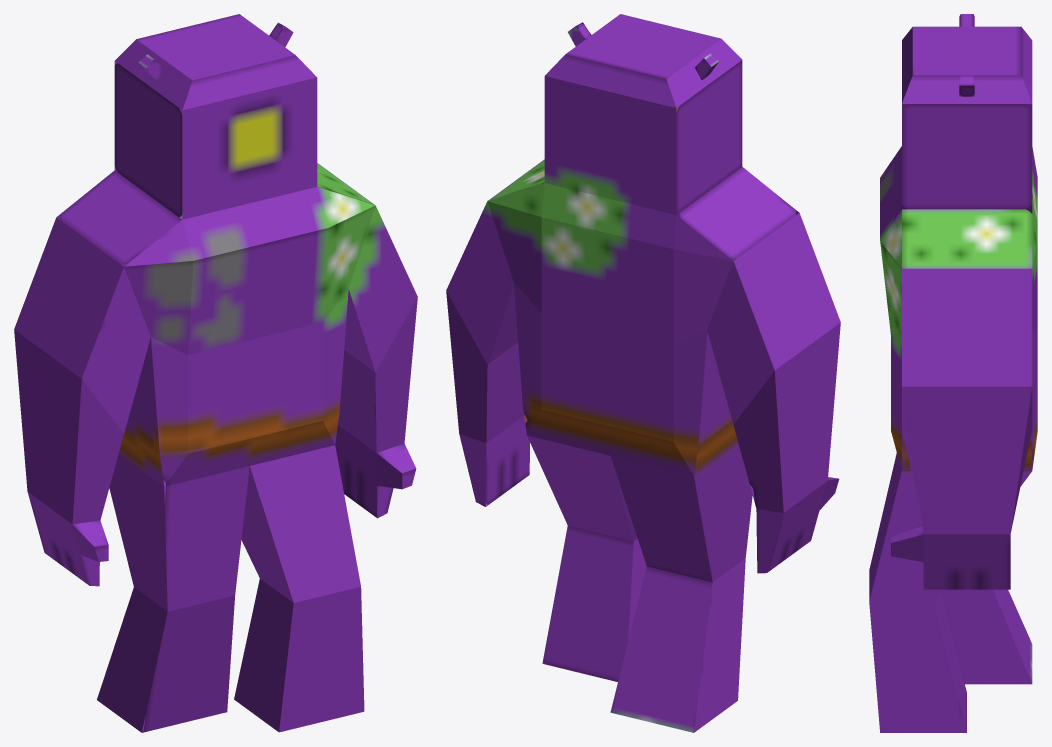
Rendered from golem-grotto.obj.
The picture shows the model from 3 angles, left to right: view 1: azimuth 30°, elevation 25°; view 2: azimuth 150°, elevation 25°; view 3: azimuth 270°, elevation 25°; orthographic projection. The views are drawn at different scales.
Visible parts, largest first — view 1: beveled_cuboid; view 2: beveled_cuboid; view 3: beveled_cuboid.
Boxes of the visible parts, bbox=[...] form: beveled_cuboid: bbox=[14, 14, 417, 732]; beveled_cuboid: bbox=[446, 14, 840, 732]; beveled_cuboid: bbox=[869, 14, 1037, 732].
Bounding box in the file's own units: 0.9375 × 1.77 × 0.4219.
Materials: 1 (1 with a texture image).
